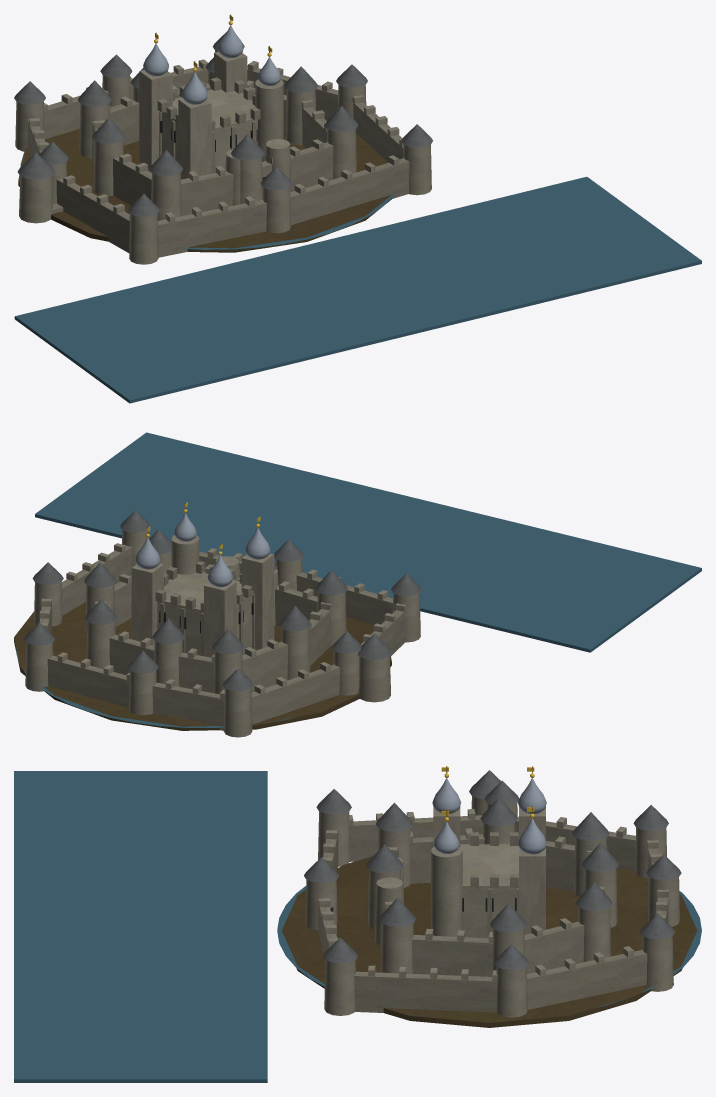
The model's file is tower-of-london-b80.glb.
3 views of the same model, one above another, from view 1: azimuth 30°, elevation 25°; view 2: azimuth 150°, elevation 25°; view 3: azimuth 270°, elevation 25° (orthographic). The views are drawn at different scales.
Bounding box in the file's own units: 46 × 10.38 × 43.4.
Materials: 9 (6 with a texture image).
